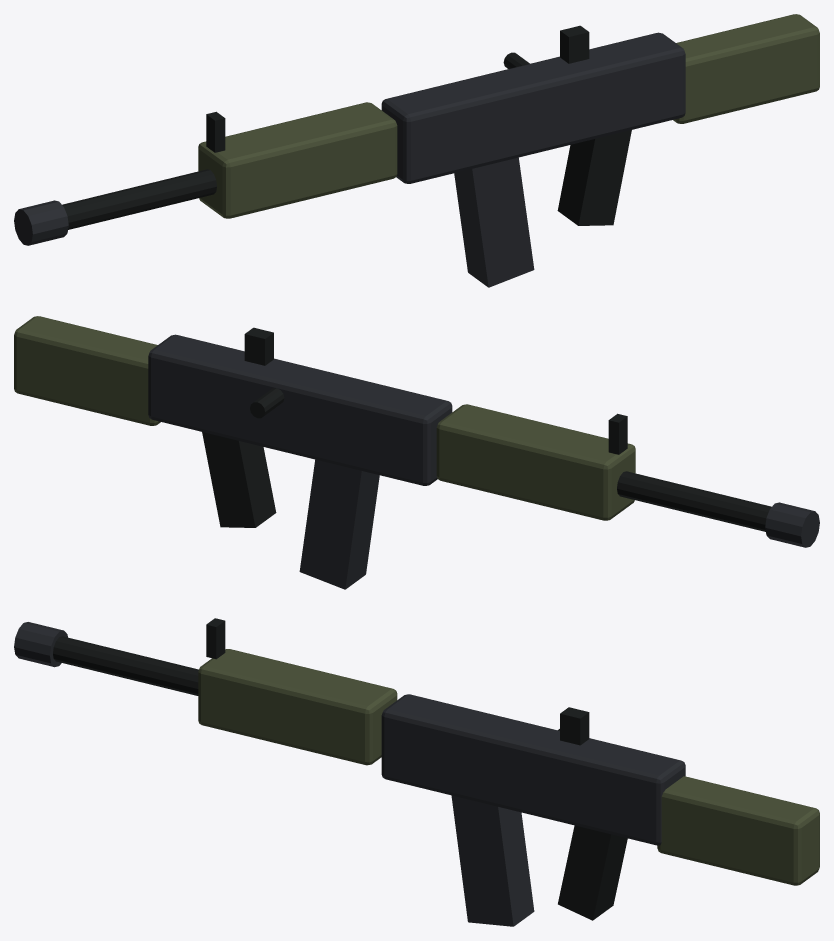
File: AssaultRifle.obj
3 renders of one model, top to bottom at view 1: azimuth 30°, elevation 25°; view 2: azimuth 150°, elevation 25°; view 3: azimuth 330°, elevation 25°, orthographic.
Parts seen in each view (by area): view 1: AssaultRifle_Receiver, AssaultRifle_Handguard, AssaultRifle_Stock, AssaultRifle_Magazine, AssaultRifle_Grip, AssaultRifle_Barrel, AssaultRifle_Muzzle, AssaultRifle_SightR, AssaultRifle_SightF; view 2: AssaultRifle_Receiver, AssaultRifle_Handguard, AssaultRifle_Stock, AssaultRifle_Magazine, AssaultRifle_Grip, AssaultRifle_Barrel, AssaultRifle_Muzzle, AssaultRifle_SightR, AssaultRifle_SightF, AssaultRifle_ChargingHandle; view 3: AssaultRifle_Receiver, AssaultRifle_Handguard, AssaultRifle_Stock, AssaultRifle_Magazine, AssaultRifle_Grip, AssaultRifle_Barrel, AssaultRifle_Muzzle, AssaultRifle_SightR, AssaultRifle_SightF.
Part boxes in pixels (x1,y1,x2,y2): AssaultRifle_Receiver: [381, 32, 685, 183]; AssaultRifle_Handguard: [198, 102, 397, 218]; AssaultRifle_Stock: [673, 14, 819, 123]; AssaultRifle_Magazine: [454, 157, 534, 287]; AssaultRifle_Grip: [557, 130, 631, 225]; AssaultRifle_Barrel: [62, 169, 216, 229]; AssaultRifle_Muzzle: [14, 200, 68, 245]; AssaultRifle_SightR: [560, 25, 589, 63]; AssaultRifle_SightF: [206, 111, 225, 152]; AssaultRifle_Receiver: [148, 334, 452, 485]; AssaultRifle_Handguard: [436, 404, 635, 520]; AssaultRifle_Stock: [14, 316, 160, 425]; AssaultRifle_Magazine: [299, 459, 379, 589]; AssaultRifle_Grip: [202, 432, 276, 527]; AssaultRifle_Barrel: [617, 471, 771, 531]; AssaultRifle_Muzzle: [765, 502, 819, 547]; AssaultRifle_SightR: [244, 327, 273, 365]; AssaultRifle_SightF: [608, 413, 627, 454]; AssaultRifle_ChargingHandle: [250, 388, 284, 418]; AssaultRifle_Receiver: [381, 694, 685, 845]; AssaultRifle_Handguard: [198, 649, 397, 765]; AssaultRifle_Stock: [657, 776, 819, 885]; AssaultRifle_Magazine: [451, 795, 534, 926]; AssaultRifle_Grip: [558, 825, 627, 920]; AssaultRifle_Barrel: [53, 636, 198, 695]; AssaultRifle_Muzzle: [14, 622, 67, 667]; AssaultRifle_SightR: [560, 707, 589, 745]; AssaultRifle_SightF: [206, 618, 225, 659].
Bounding box in the file's own units: 1.53 × 0.4251 × 0.16.
